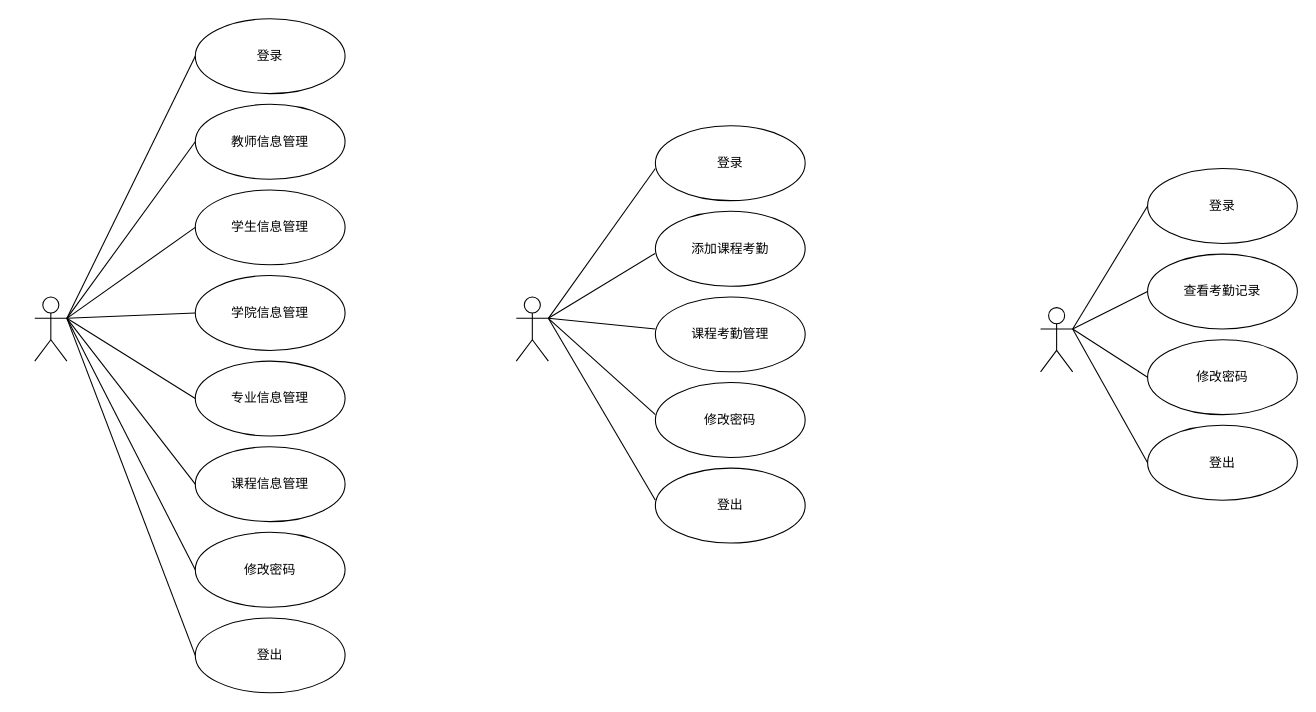
Some shapes in this 1316 by 712 pixel diagram are drawn without their labels. The shapes that lost their labels are listed below. From the top down, each one's centre as x and y in pixels, then its label:
At point 50,328: "系统管理员".
At point 531,328: "教师".
At point 1056,339: "学生".
